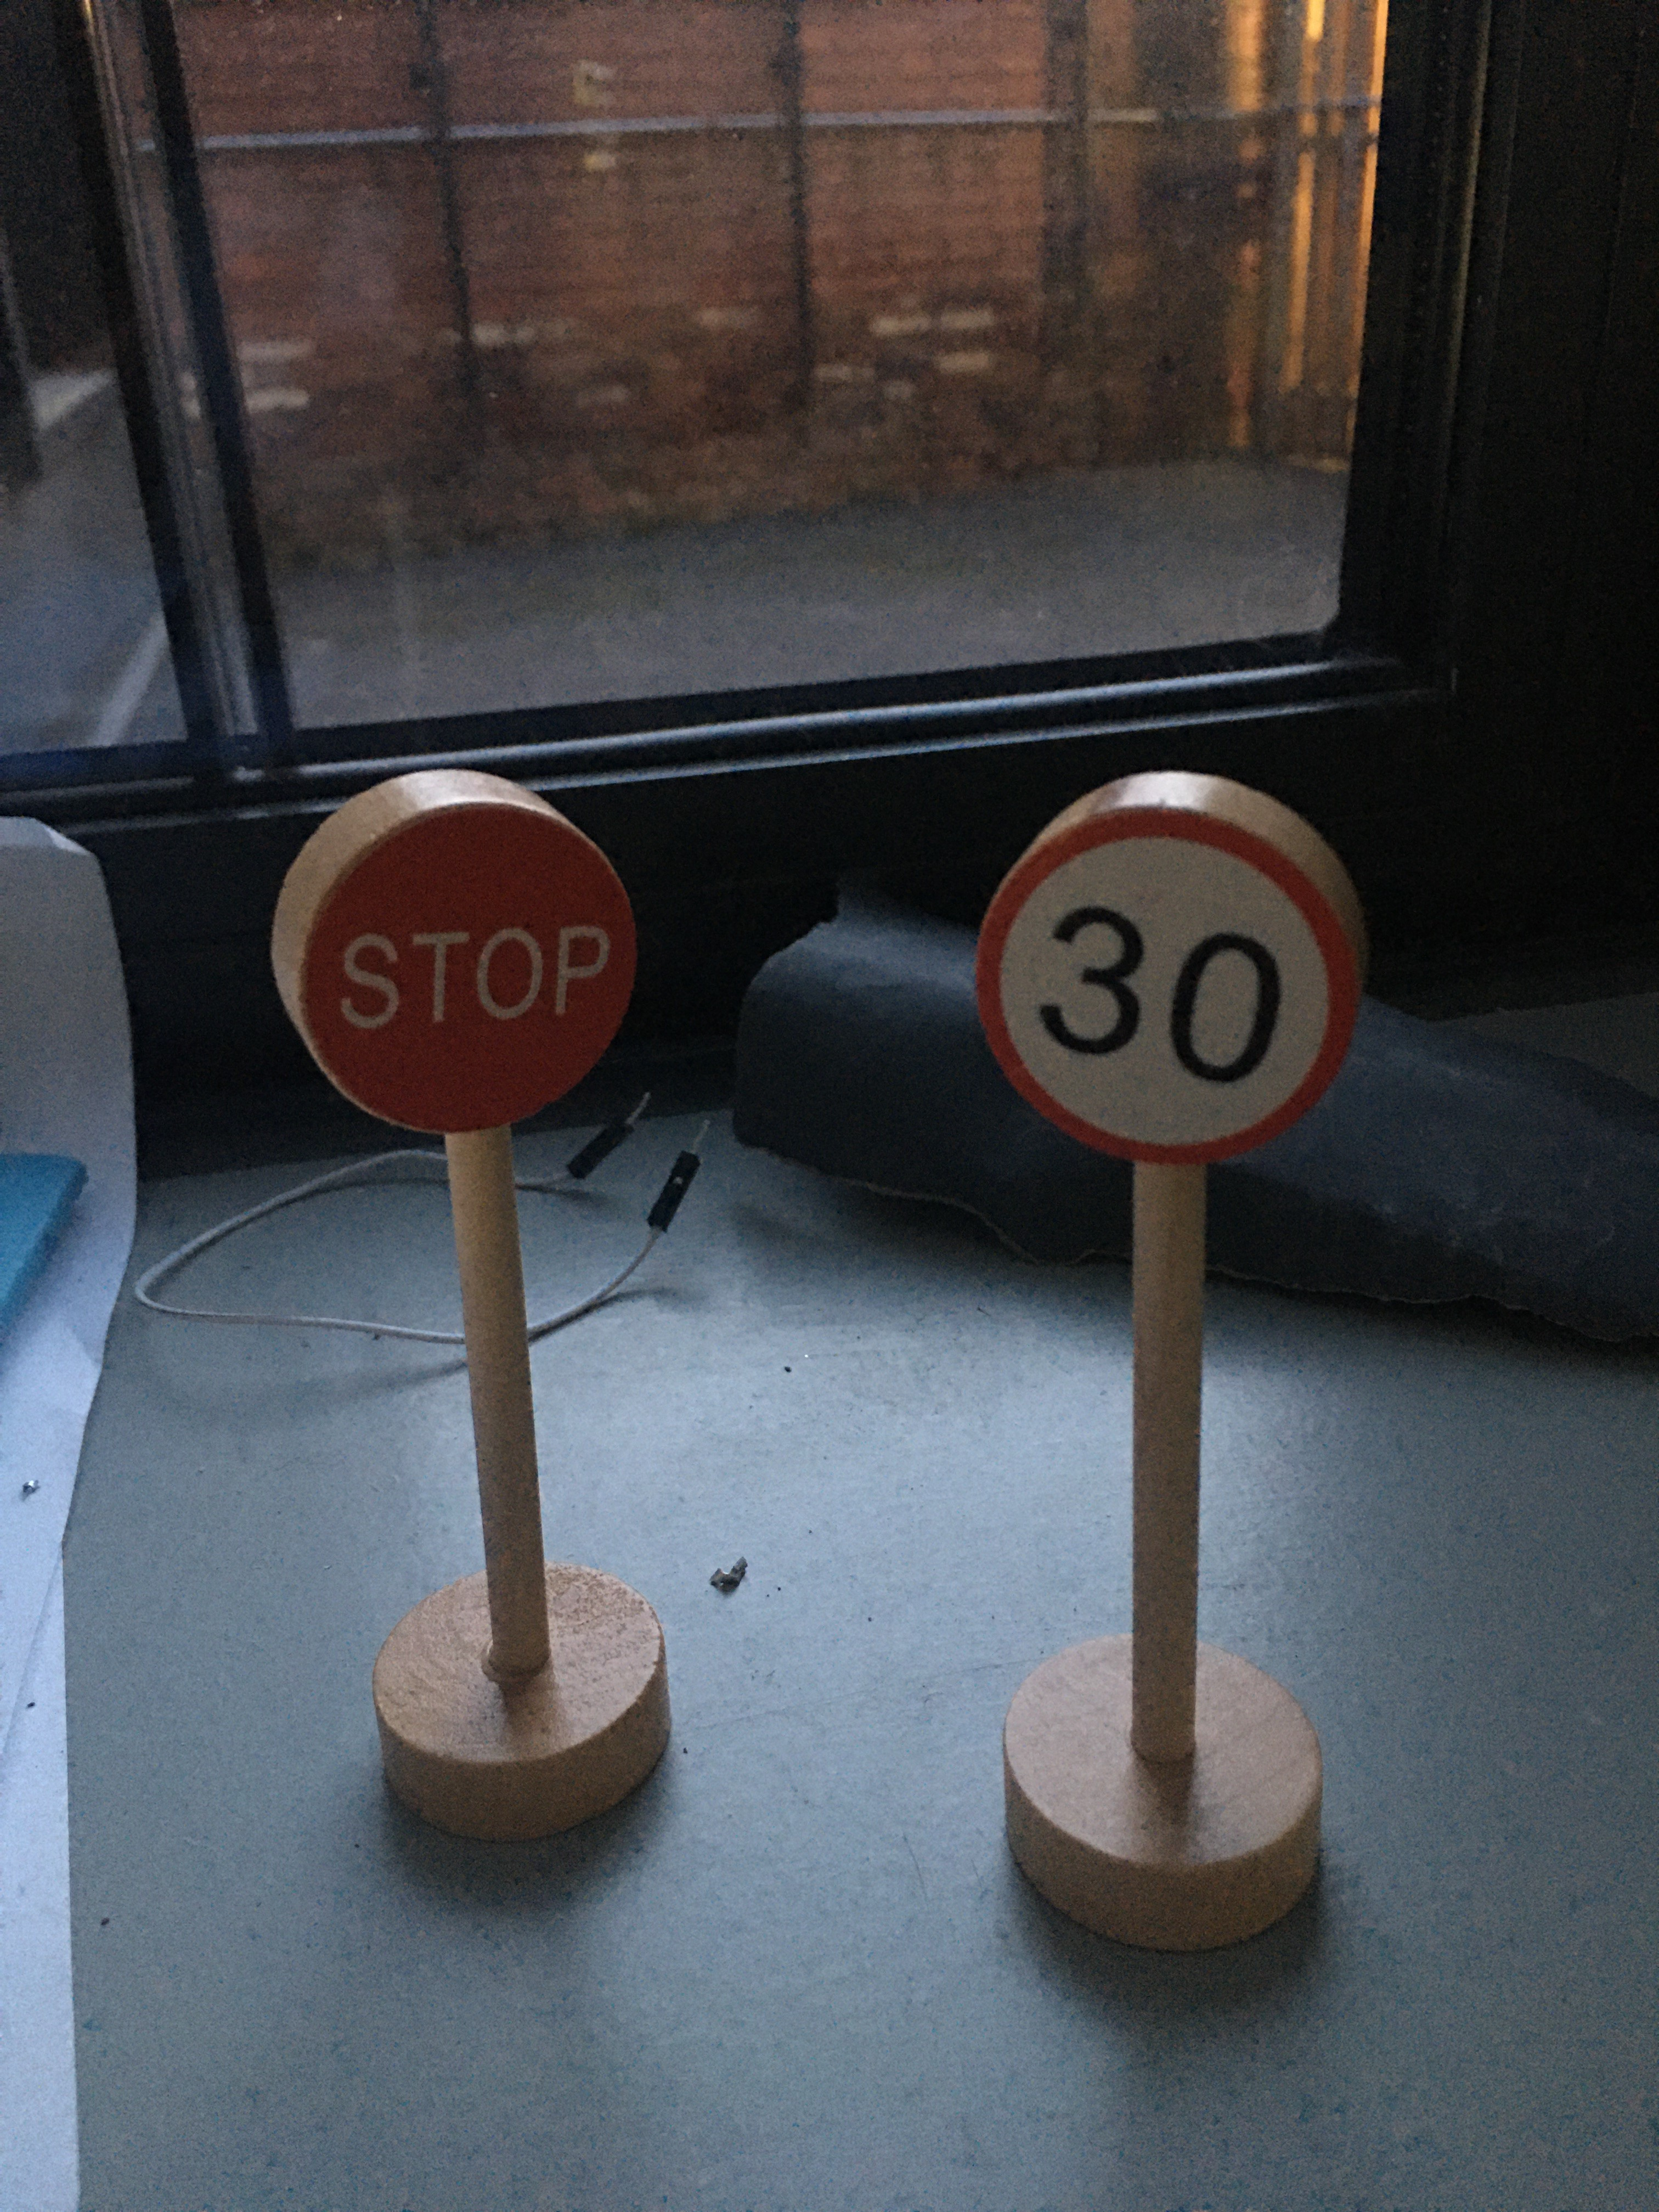Traffic_Sign_30: (979, 830, 1347, 1157)
Traffic_Sign_Stop: (305, 809, 631, 1131)
